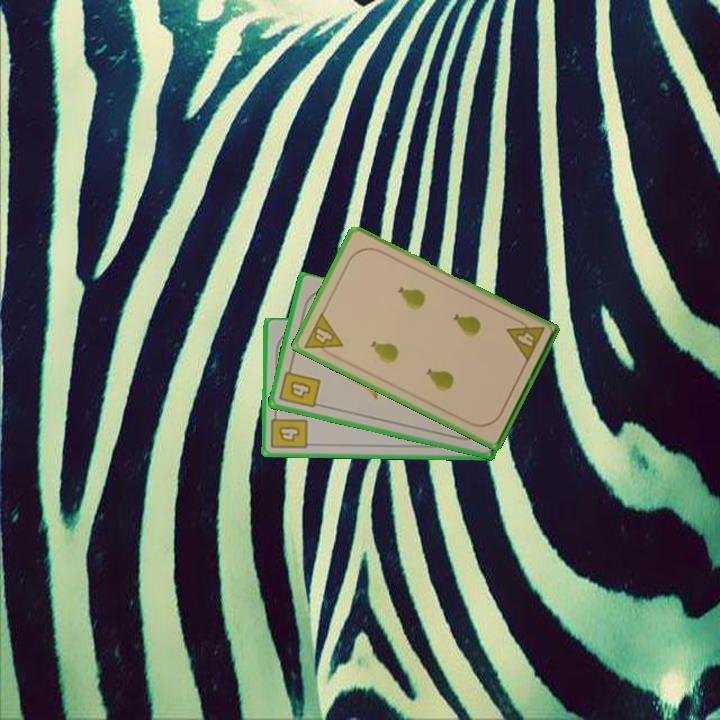4b: (276, 362, 323, 411), (268, 408, 310, 452)
4p: (300, 309, 346, 362), (503, 314, 547, 365)
